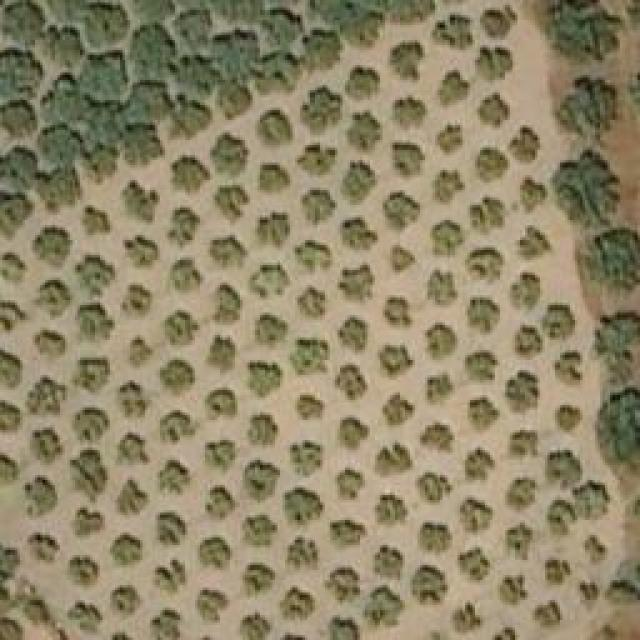Tree: (553, 155, 623, 230), (545, 0, 620, 62), (550, 78, 618, 138), (597, 387, 640, 474), (592, 230, 640, 290), (133, 23, 173, 76), (300, 87, 343, 135), (500, 370, 543, 418), (210, 35, 258, 78), (70, 450, 108, 503), (80, 105, 125, 148), (25, 375, 68, 418), (75, 253, 118, 296), (120, 180, 160, 225), (33, 228, 73, 273), (0, 53, 40, 98), (210, 135, 250, 178), (123, 125, 163, 168), (382, 190, 420, 235), (337, 260, 375, 305), (255, 108, 293, 151), (40, 125, 83, 163), (242, 460, 280, 503), (545, 450, 583, 493), (283, 488, 323, 528), (85, 55, 125, 95), (75, 303, 115, 343), (390, 93, 428, 133), (342, 160, 380, 200), (290, 337, 330, 375), (600, 307, 640, 345), (0, 148, 38, 188), (132, 83, 170, 123), (465, 247, 505, 285), (432, 68, 470, 108), (572, 480, 610, 520), (175, 8, 210, 51), (72, 357, 110, 395), (115, 382, 153, 420), (377, 342, 415, 380), (540, 305, 578, 343), (42, 170, 80, 208), (85, 5, 123, 43), (257, 52, 295, 90), (32, 280, 70, 318), (168, 205, 201, 248), (25, 475, 58, 518), (210, 283, 243, 326), (433, 15, 473, 50), (338, 215, 378, 250), (250, 263, 290, 298), (425, 323, 460, 363), (413, 565, 448, 605), (325, 565, 360, 605), (43, 80, 78, 120), (303, 30, 338, 70), (343, 13, 383, 48), (172, 155, 210, 190), (255, 212, 290, 250), (508, 127, 543, 165), (475, 147, 510, 185), (303, 187, 338, 225), (247, 363, 285, 398), (72, 408, 110, 443), (290, 440, 325, 478), (458, 497, 493, 535), (475, 48, 513, 83), (460, 447, 495, 485), (293, 240, 333, 273), (335, 363, 368, 403), (210, 235, 248, 268), (478, 90, 511, 128), (348, 112, 381, 150), (158, 460, 191, 498), (383, 392, 416, 430), (338, 415, 371, 453), (45, 27, 78, 65), (430, 220, 468, 253), (515, 228, 553, 261), (365, 590, 398, 628), (297, 143, 335, 176), (215, 188, 250, 223), (195, 588, 230, 623), (175, 60, 210, 95), (375, 443, 410, 478), (160, 310, 195, 345), (205, 335, 235, 375), (338, 315, 368, 355), (415, 423, 455, 453), (0, 97, 32, 134), (483, 5, 516, 40), (433, 168, 466, 203), (255, 313, 288, 348), (33, 330, 68, 363), (30, 428, 63, 463), (298, 288, 333, 321), (468, 298, 501, 333), (465, 350, 500, 383), (468, 398, 501, 433), (335, 465, 368, 500), (110, 533, 143, 568), (155, 558, 188, 593), (243, 563, 276, 598), (68, 603, 103, 636), (418, 523, 453, 556), (173, 103, 208, 136), (415, 470, 450, 503), (375, 493, 408, 528), (198, 535, 231, 570), (160, 360, 193, 395), (160, 410, 193, 445), (118, 477, 148, 515), (205, 485, 235, 523), (548, 497, 578, 535), (7, 3, 35, 43), (125, 235, 158, 268), (205, 388, 238, 421), (65, 555, 98, 588), (288, 538, 321, 571), (458, 548, 491, 581), (245, 515, 278, 548), (0, 295, 28, 333), (512, 272, 540, 310), (0, 195, 28, 233), (393, 43, 423, 78), (205, 440, 240, 470), (428, 270, 458, 305), (513, 325, 543, 360), (505, 478, 535, 513), (553, 353, 583, 388), (110, 583, 140, 618), (373, 545, 403, 580), (280, 588, 315, 618), (265, 10, 295, 45), (348, 65, 378, 100), (258, 165, 291, 195), (393, 143, 423, 176), (170, 258, 200, 291), (248, 413, 278, 446), (383, 298, 413, 331), (158, 513, 188, 546), (150, 607, 180, 640), (218, 85, 248, 118), (85, 150, 113, 185), (508, 522, 533, 560), (0, 347, 22, 390), (219, 0, 262, 22), (0, 253, 28, 286), (435, 123, 463, 156), (517, 178, 545, 211), (83, 205, 113, 235), (123, 285, 153, 315), (118, 433, 148, 463), (73, 508, 103, 538), (30, 533, 60, 563), (453, 603, 483, 633), (473, 198, 503, 228), (553, 405, 583, 435), (508, 430, 538, 460), (130, 0, 170, 22), (330, 520, 365, 545), (533, 600, 563, 628), (608, 575, 638, 603), (583, 533, 608, 566), (390, 0, 427, 22), (242, 612, 270, 640), (500, 577, 528, 605), (295, 392, 323, 420), (128, 335, 151, 368), (0, 399, 22, 432), (22, 600, 50, 625), (393, 243, 416, 273), (327, 617, 357, 640), (47, 0, 85, 18), (545, 560, 573, 583), (428, 375, 453, 400), (313, 0, 343, 20), (0, 455, 18, 483), (580, 582, 598, 600)
